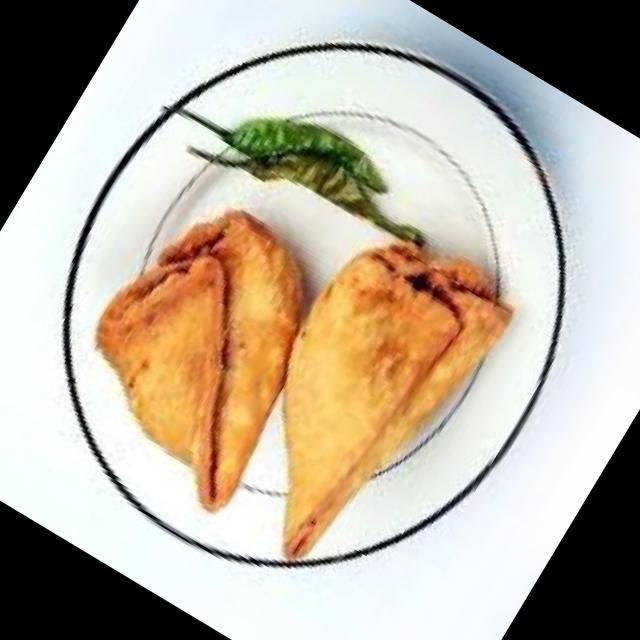samosa: (193, 202, 526, 594), (42, 174, 362, 519)
